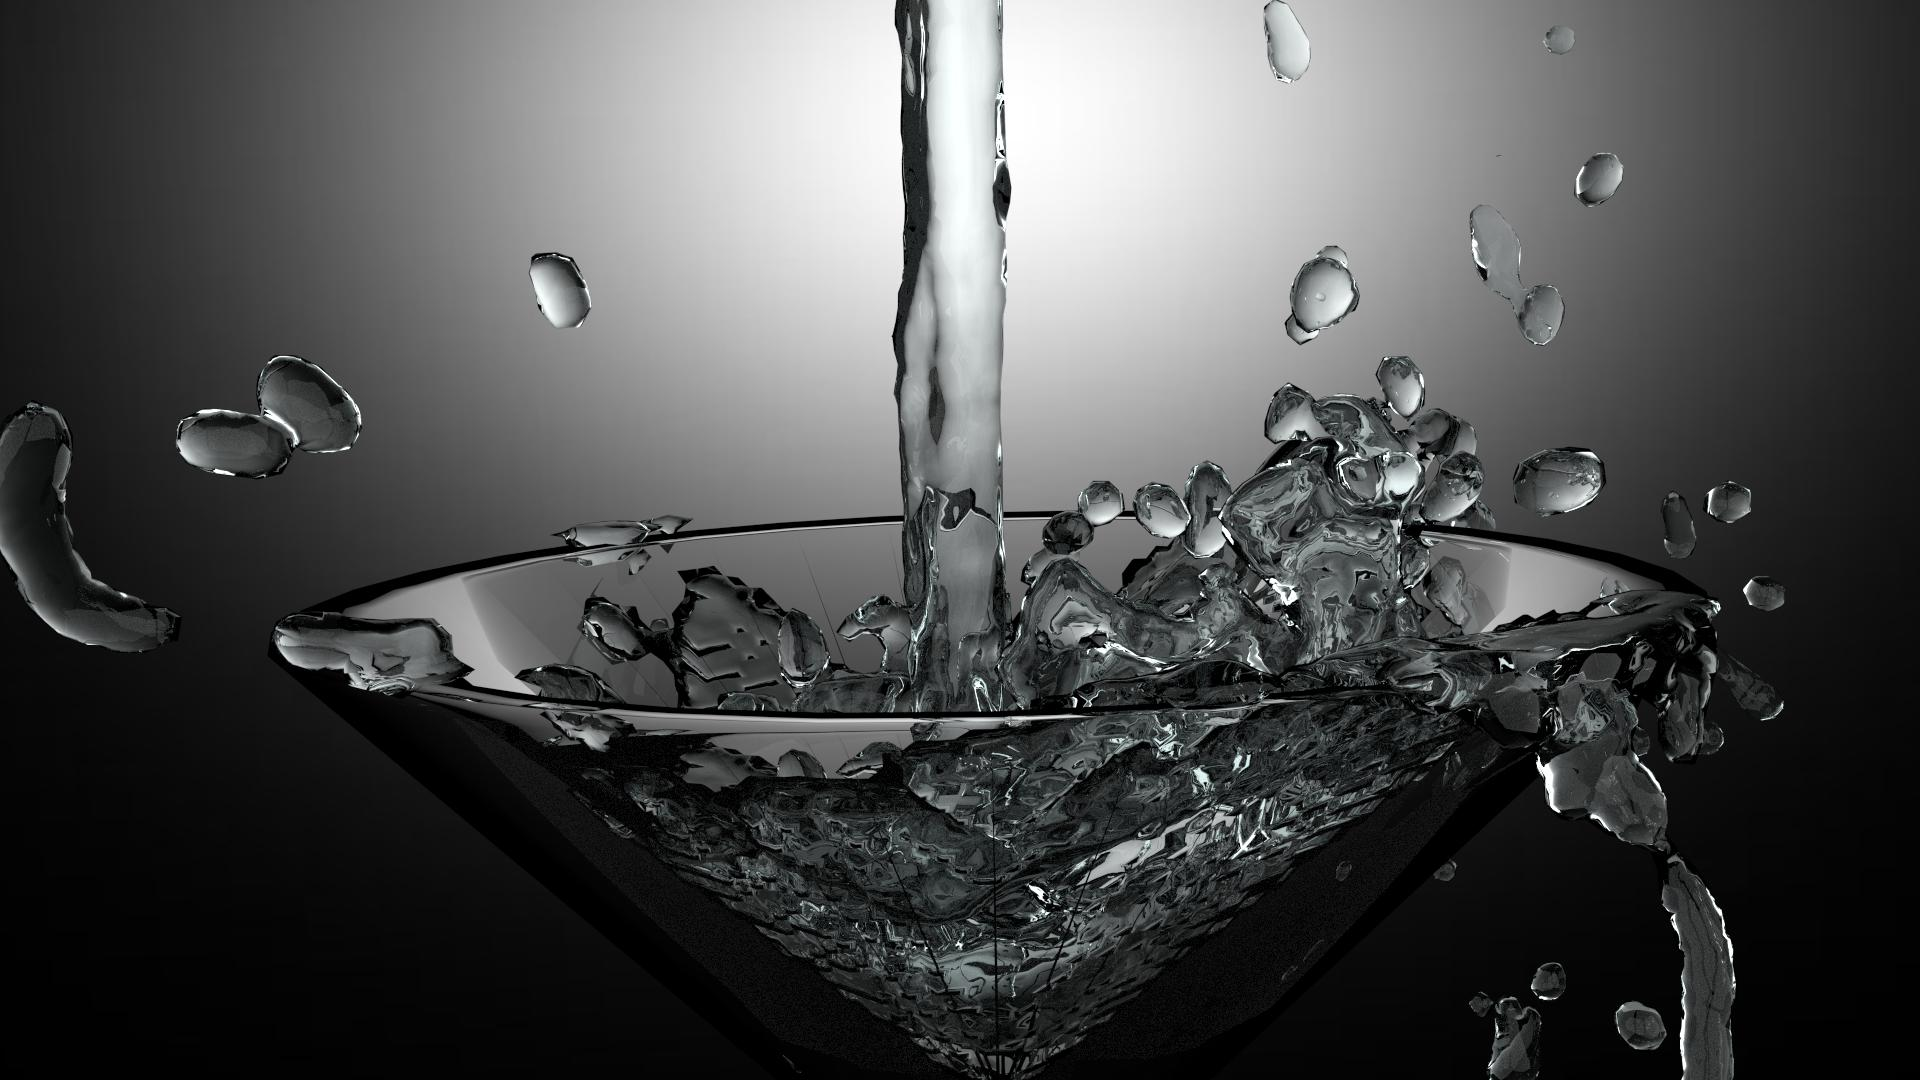glass of water: (589, 530, 1360, 996)
